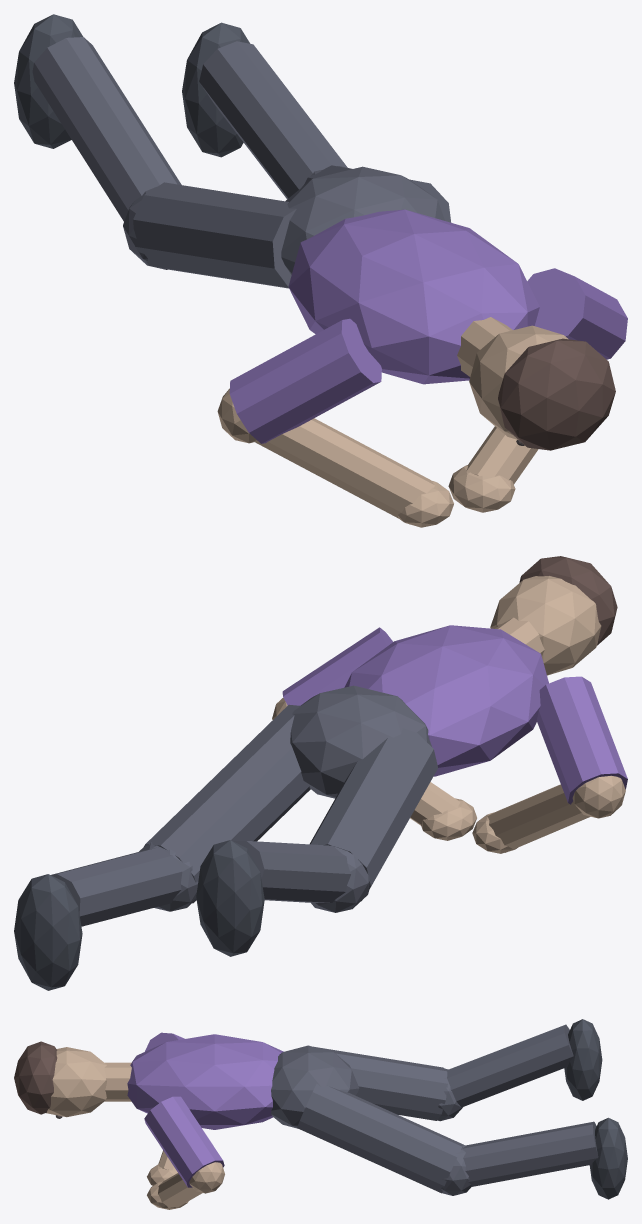
3 views of the same model, one above another, from view 1: azimuth 30°, elevation 25°; view 2: azimuth 150°, elevation 25°; view 3: azimuth 270°, elevation 25° (orthographic). The views are drawn at different scales.
Visible parts, largest first — view 1: world; view 2: world; view 3: world.
Boxes of the visible parts, bbox=[...] form: world: bbox=[14, 14, 627, 527]; world: bbox=[14, 556, 627, 990]; world: bbox=[14, 1019, 627, 1209].
Bounding box in the file's own units: 0.93 × 0.5928 × 2.04.
